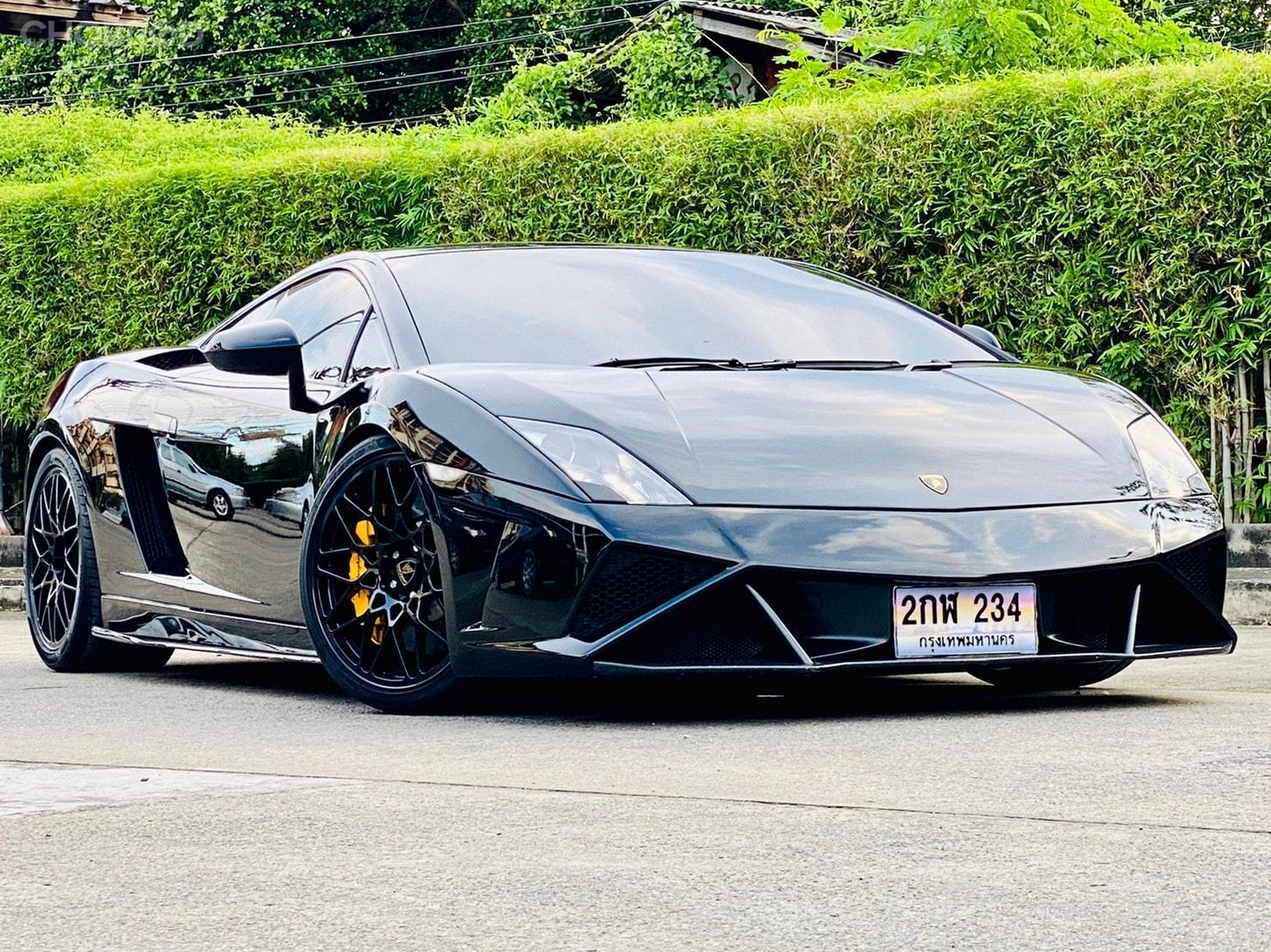license-plate: (889, 574, 1046, 667)
